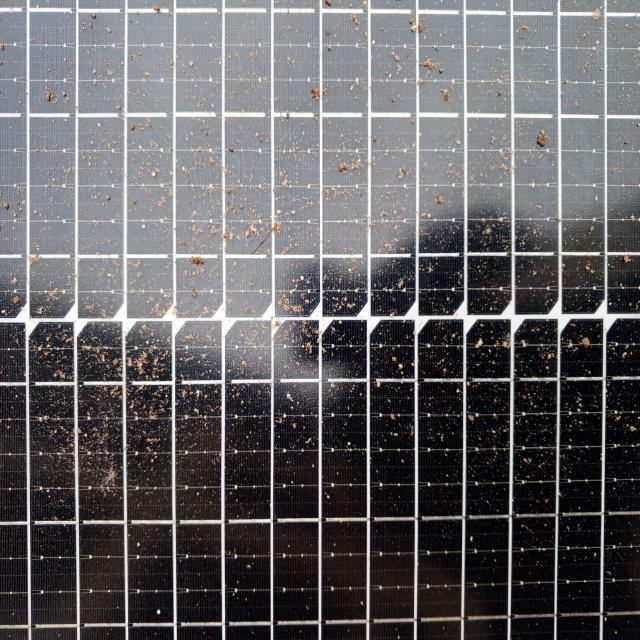Anomaly Solar Panel: (2, 12, 639, 633)
Surface Contaminant: (2, 12, 639, 633)
